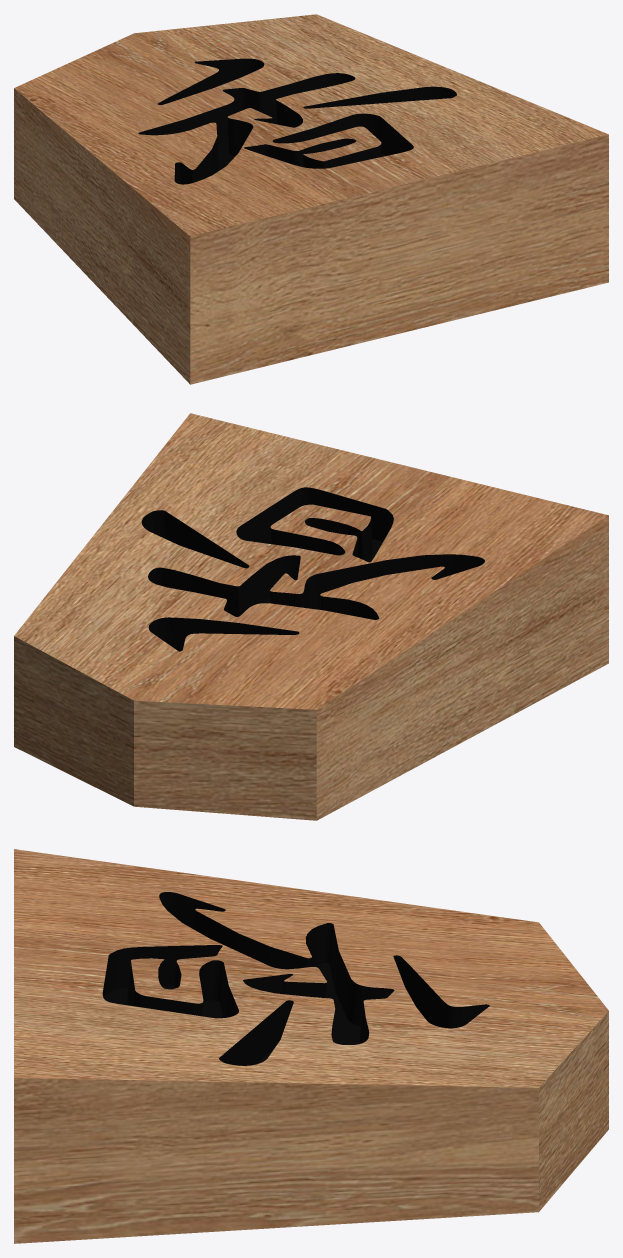
File: Lance.fbx
3 views of the same model, one above another, from view 1: azimuth 30°, elevation 25°; view 2: azimuth 150°, elevation 25°; view 3: azimuth 270°, elevation 25° (orthographic). The views are drawn at different scales.
Parts seen in each view (by area): view 1: Lance; view 2: Lance; view 3: Lance.
Boxes of the visible parts, <box> form: Lance: <box>14,14,608,384</box>; Lance: <box>14,413,608,820</box>; Lance: <box>14,849,608,1243</box>.
Size of the model in its own units: 2336 by 790 by 2566.
